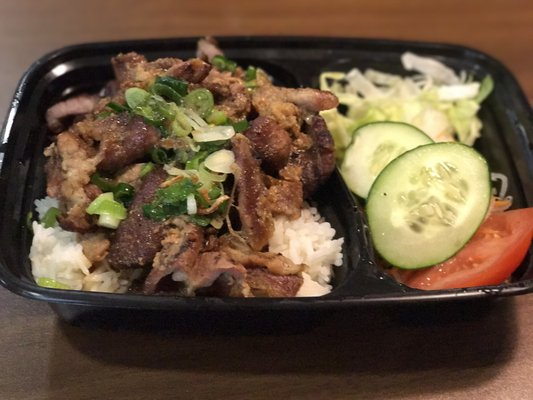sushi: (2, 18, 531, 394)
